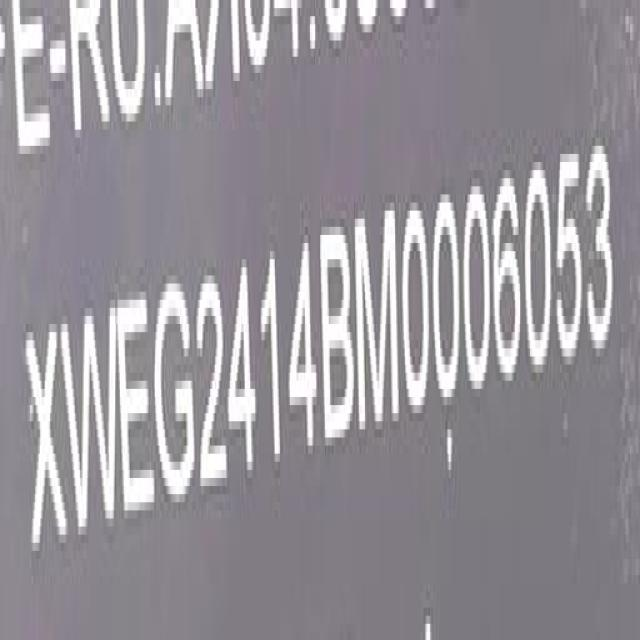0: (402, 198, 433, 423), (524, 160, 552, 380), (464, 185, 493, 396), (433, 195, 461, 406)
1: (261, 244, 283, 478)
2: (199, 272, 230, 500)
3: (590, 138, 617, 358)
4: (291, 234, 322, 466), (227, 259, 257, 493)
5: (555, 144, 582, 372)
6: (494, 172, 524, 384)
B: (322, 220, 355, 451)
E: (120, 288, 158, 530)
G: (155, 280, 196, 508)
M: (359, 213, 400, 438)
W: (67, 302, 119, 540)
X: (32, 322, 66, 562)
